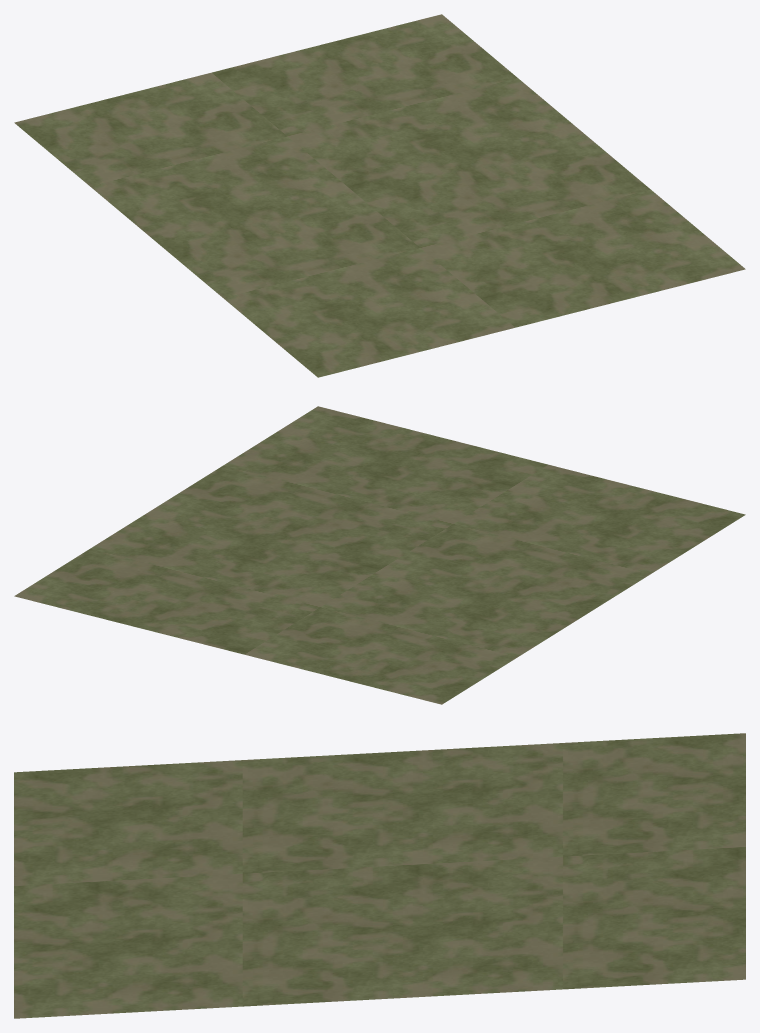
3 renders of one model, top to bottom at view 1: azimuth 30°, elevation 25°; view 2: azimuth 150°, elevation 25°; view 3: azimuth 270°, elevation 25°, orthographic. The views are drawn at different scales.
Bounding box in the file's own units: 13 × 1.06 × 16.
1 material, 1 textured.
